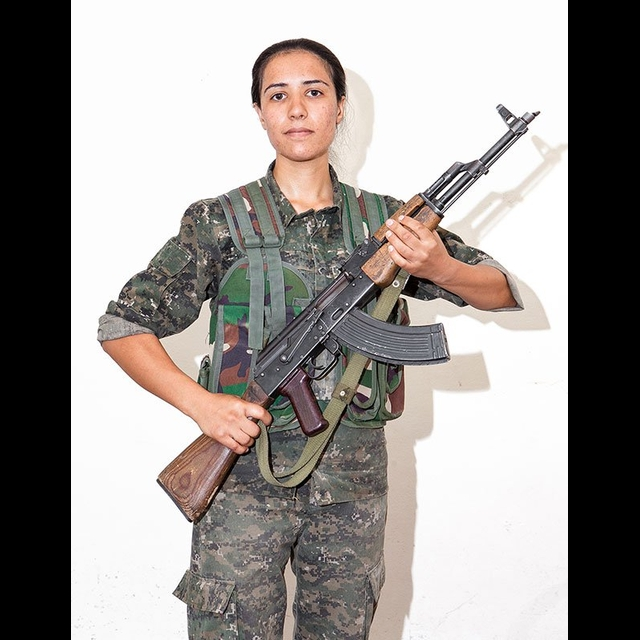AK47: (155, 105, 549, 473)
